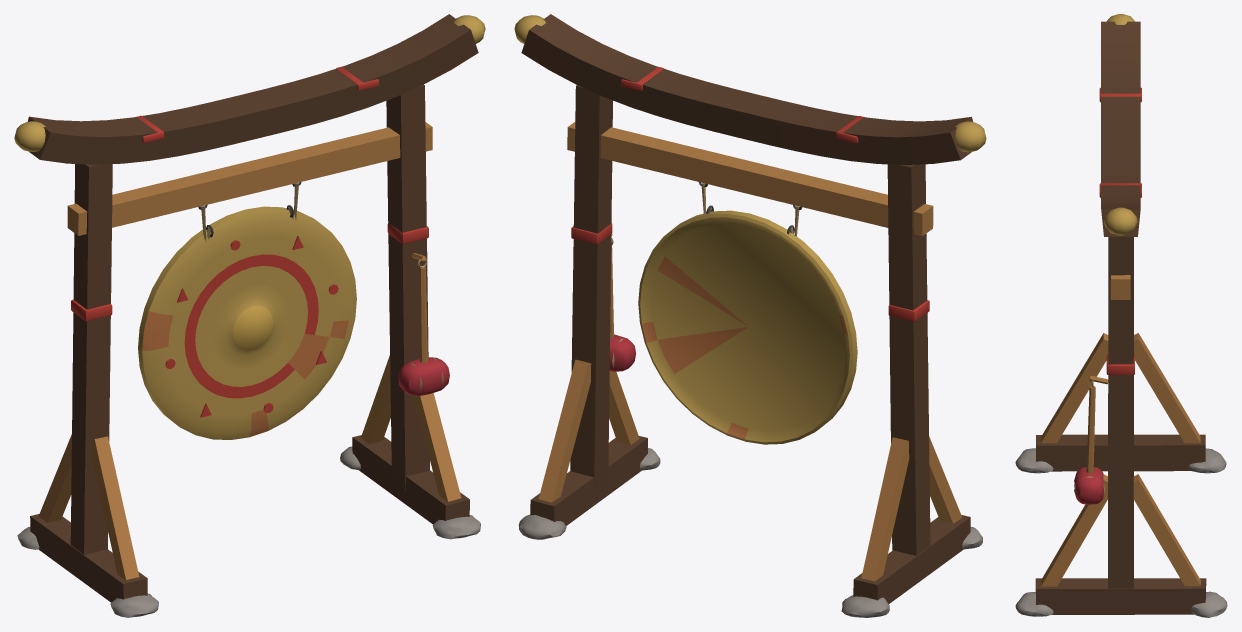
Rendered from deco_alarm_gong.fbx.
The picture shows the model from 3 angles, left to right: view 1: azimuth 30°, elevation 25°; view 2: azimuth 150°, elevation 25°; view 3: azimuth 270°, elevation 25°; orthographic projection. The views are drawn at different scales.
Parts seen in each view (by area): view 1: AlarmGong_Frame, AlarmGong_Gong, AlarmGong_Mallet; view 2: AlarmGong_Frame, AlarmGong_Gong, AlarmGong_Mallet; view 3: AlarmGong_Frame, AlarmGong_Mallet.
Boxes of the visible parts, box(x1,y1,x2,y2) form: AlarmGong_Frame: box(14, 14, 485, 617); AlarmGong_Gong: box(138, 182, 356, 439); AlarmGong_Mallet: box(398, 259, 449, 395); AlarmGong_Frame: box(514, 14, 986, 617); AlarmGong_Gong: box(638, 183, 857, 444); AlarmGong_Mallet: box(609, 237, 635, 371); AlarmGong_Frame: box(1015, 14, 1227, 617); AlarmGong_Mallet: box(1074, 380, 1105, 504).
Bounding box in the file's own units: 347 × 332 × 150.
